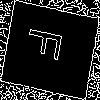F: (25, 25, 72, 64)
